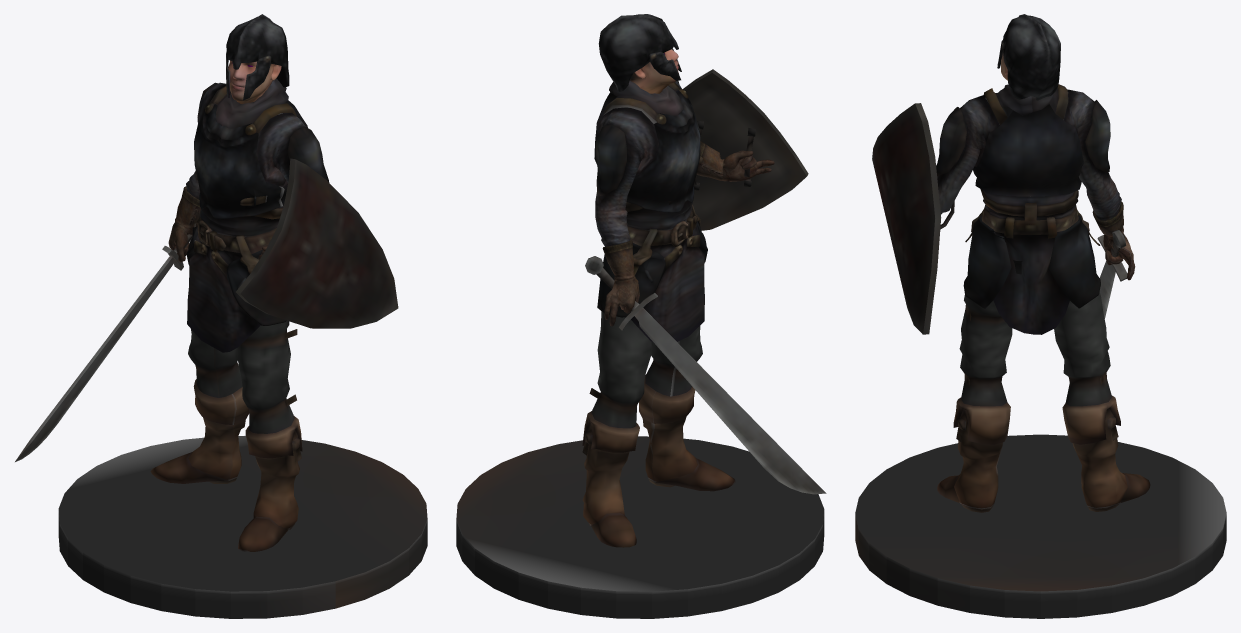
The picture shows the model from 3 angles, left to right: view 1: azimuth 30°, elevation 25°; view 2: azimuth 150°, elevation 25°; view 3: azimuth 270°, elevation 25°; orthographic projection.
Parts seen in each view (by area): view 1: falchion2.smd; view 2: falchion2.smd; view 3: falchion2.smd.
Boxes of the visible parts, x1,y1,x2,y2 form: falchion2.smd: (15, 14, 427, 618); falchion2.smd: (456, 14, 826, 618); falchion2.smd: (855, 14, 1226, 618).
Bounding box in the file's own units: 1.27 × 1.72 × 1.1.
1 material, 1 textured.
